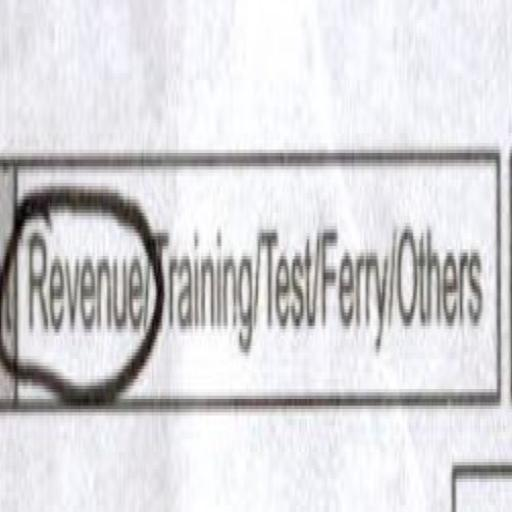check: (23, 110, 154, 434)
